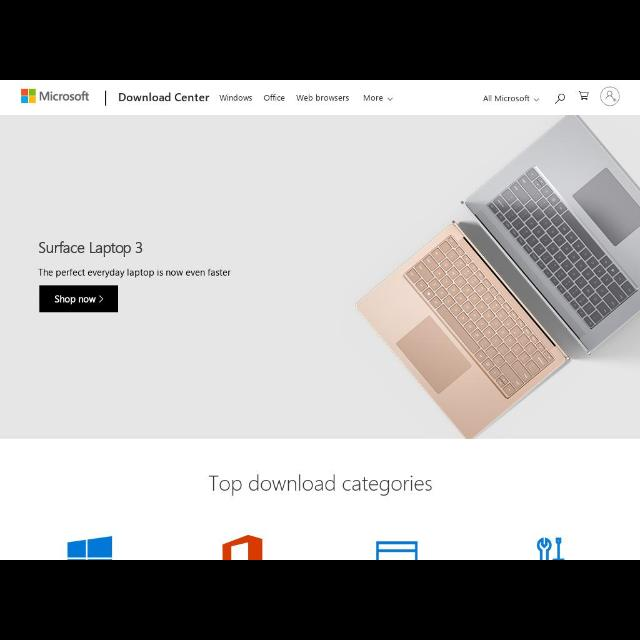backgroundimage: (1, 116, 639, 436)
button: (600, 86, 620, 106)
icon: (554, 94, 566, 104), (579, 92, 589, 100), (99, 296, 103, 302), (534, 98, 538, 102), (388, 98, 392, 100)
image: (22, 88, 36, 104)
multitab: (1, 80, 640, 116)
spinner: (484, 95, 540, 102), (363, 95, 393, 101)
text: (208, 474, 432, 498), (39, 241, 143, 257), (39, 270, 231, 278), (119, 92, 209, 101), (54, 295, 96, 305), (39, 92, 89, 100), (296, 95, 349, 101), (484, 96, 530, 102), (220, 95, 252, 102), (264, 95, 284, 102), (363, 95, 382, 101)
textbutton: (40, 286, 118, 312)
